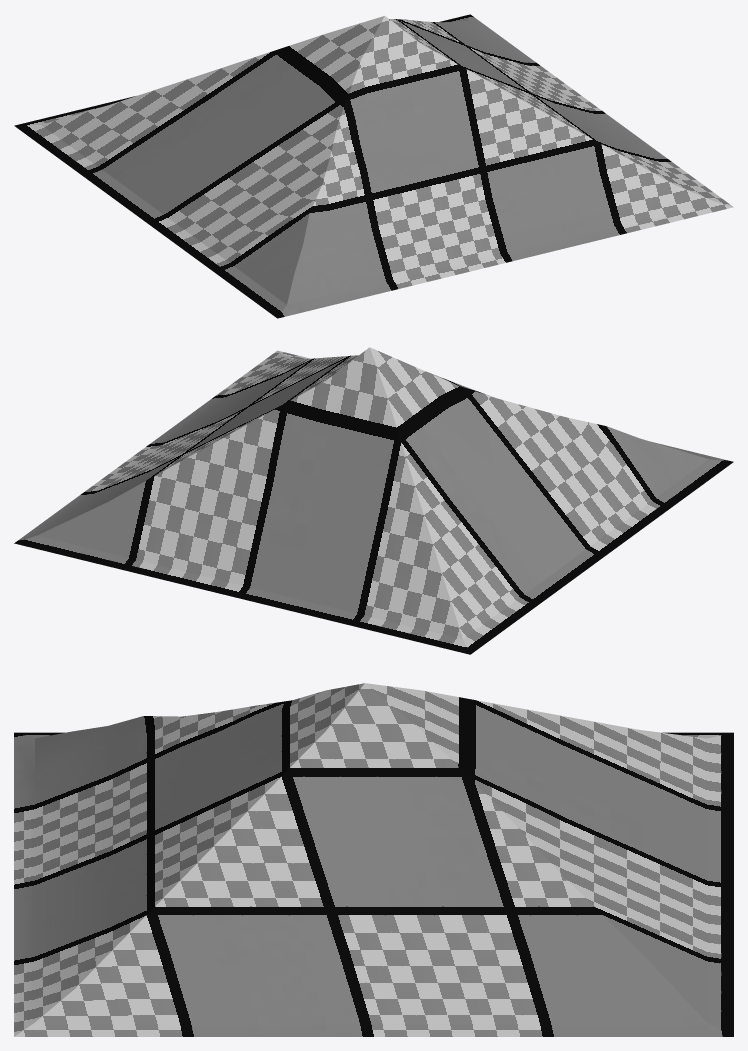
Rendered from roof_6707235.glb.
3 views of the same model, one above another, from view 1: azimuth 30°, elevation 25°; view 2: azimuth 150°, elevation 25°; view 3: azimuth 270°, elevation 25° (orthographic). The views are drawn at different scales.
Parts seen in each view (by area): view 1: mesh; view 2: mesh; view 3: mesh.
Part boxes in pixels (<box>): mesh: <box>14,14,733,318</box>; mesh: <box>14,347,733,654</box>; mesh: <box>14,683,733,1036</box>.
Bounding box in the file's own units: 30 × 9.5 × 30.
1 material, 1 textured.
